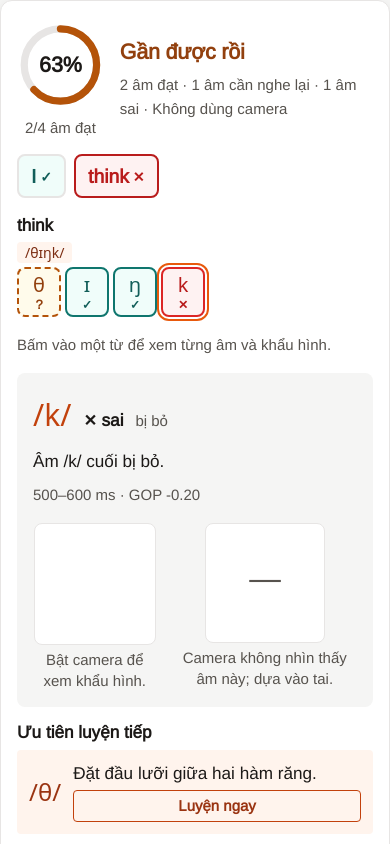
Test: ResultCard › opens a sentence on its first word to fix, and a tap on a word shows its sounds
This screenshot has width=390, height=844.
Check: the text "Gần được rồi" is shown, box x1=120 y1=40 x2=244 y2=64
Check: the element "Âm /k/" is shown, box x1=17 y1=373 x2=373 y2=707
Click the button named "I: đạt" at (42,176), box x1=17 y1=154 x2=66 y2=198
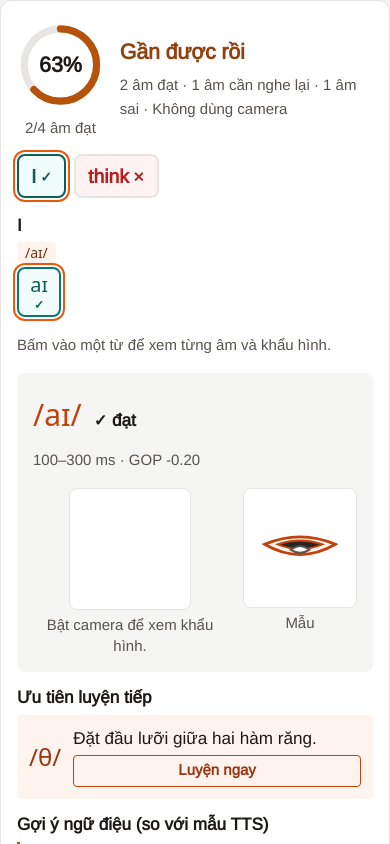
Check: the element named "Âm /aɪ/" is shown, box x1=17 y1=373 x2=373 y2=672
